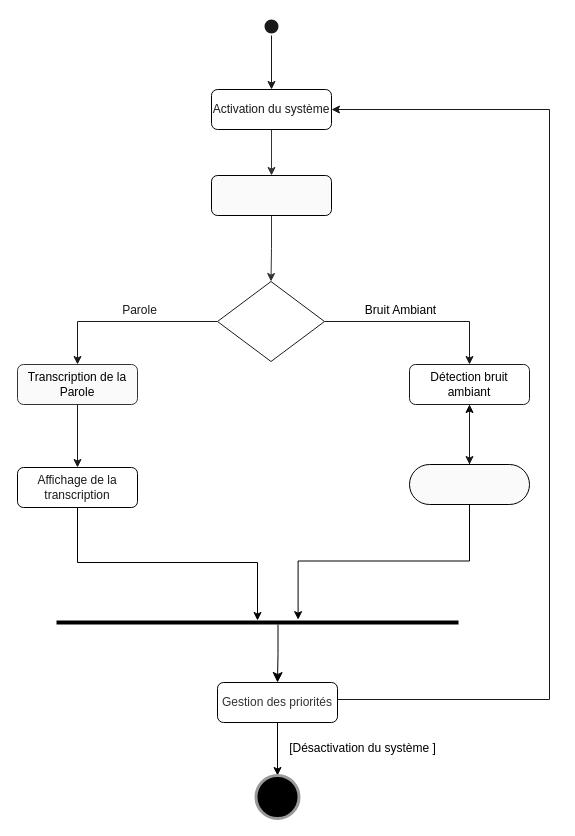
The diagram is 575 pixels wide and 836 high, and some of its shapes have lost their labels. The box of each missing label's shape, as (x1, y1, x2, y2) in pixels:
Alerte visuelle: (408, 464, 530, 504)
Capture des sons: (210, 174, 332, 216)
